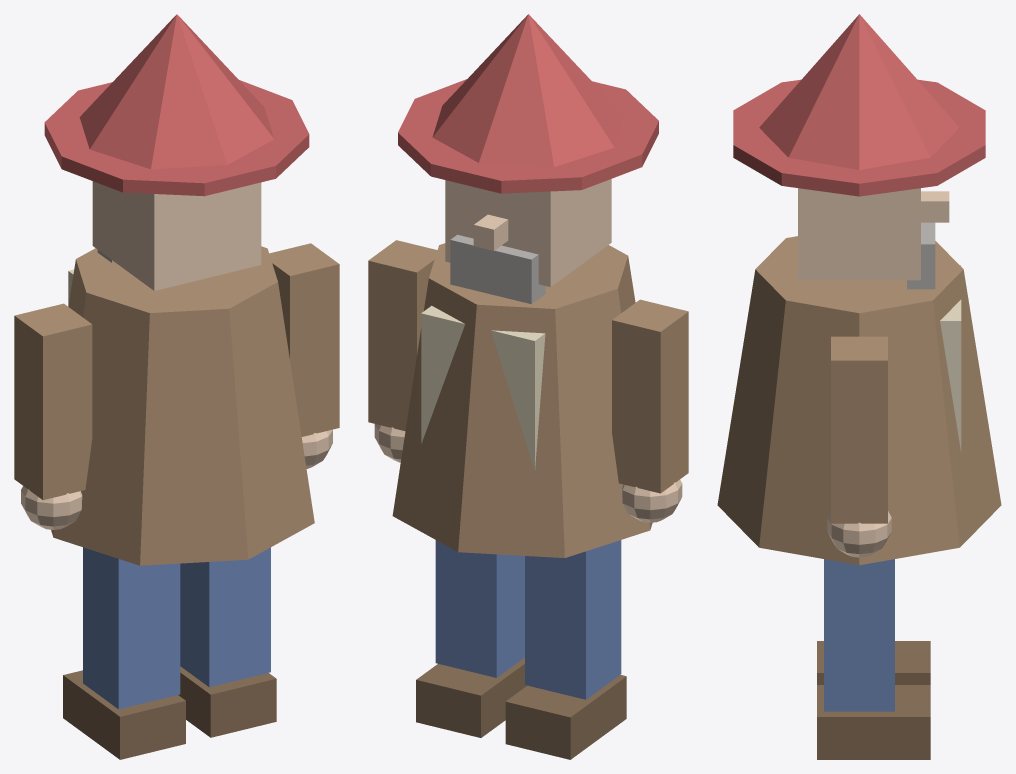
The model's file is merchant.glb.
3 views of the same model, side by side, from view 1: azimuth 30°, elevation 25°; view 2: azimuth 150°, elevation 25°; view 3: azimuth 270°, elevation 25° (orthographic).
Parts seen in each view (by area): view 1: merchant_04, merchant_13, merchant_10, merchant_06, merchant_02, merchant_14, merchant_03, merchant_07, merchant_00, merchant_01, merchant_08, merchant_09; view 2: merchant_04, merchant_13, merchant_06, merchant_02, merchant_14, merchant_03, merchant_10, merchant_07, merchant_05, merchant_00, merchant_01, merchant_12 (+3 smaller); view 3: merchant_04, merchant_13, merchant_14, merchant_10, merchant_07, merchant_03, merchant_01, merchant_00, merchant_09, merchant_05, merchant_12, merchant_11.
Boxes of the visible parts, box(x1,y1,x2,y2) form: merchant_04: box(51, 246, 314, 565); merchant_13: box(79, 14, 273, 169); merchant_10: box(92, 181, 261, 290); merchant_06: box(14, 303, 92, 500); merchant_02: box(83, 547, 180, 709); merchant_14: box(44, 80, 309, 196); merchant_03: box(180, 547, 270, 687); merchant_07: box(269, 243, 339, 436); merchant_00: box(63, 670, 185, 759); merchant_01: box(178, 666, 276, 737); merchant_08: box(21, 486, 82, 529); merchant_09: box(301, 429, 332, 468); merchant_04: box(392, 243, 652, 557); merchant_13: box(432, 14, 624, 167); merchant_06: box(612, 299, 688, 493); merchant_02: box(525, 540, 621, 699); merchant_14: box(398, 79, 658, 193); merchant_03: box(435, 540, 524, 677); merchant_10: box(445, 179, 611, 287); merchant_07: box(368, 240, 437, 431); merchant_05: box(421, 305, 545, 471); merchant_00: box(505, 675, 626, 759); merchant_01: box(416, 657, 526, 737); merchant_12: box(450, 234, 545, 304); merchant_04: box(717, 236, 1001, 565); merchant_13: box(759, 14, 959, 169); merchant_14: box(733, 79, 985, 196); merchant_10: box(798, 188, 920, 280); merchant_07: box(831, 336, 887, 523); merchant_03: box(824, 559, 894, 711); merchant_01: box(817, 685, 930, 759); merchant_00: box(817, 641, 930, 684); merchant_09: box(827, 511, 891, 557); merchant_05: box(940, 265, 961, 452); merchant_12: box(907, 222, 935, 289); merchant_11: box(921, 191, 949, 222).
Size of the model in its own units: 0.7365 by 1.65 by 0.6.
